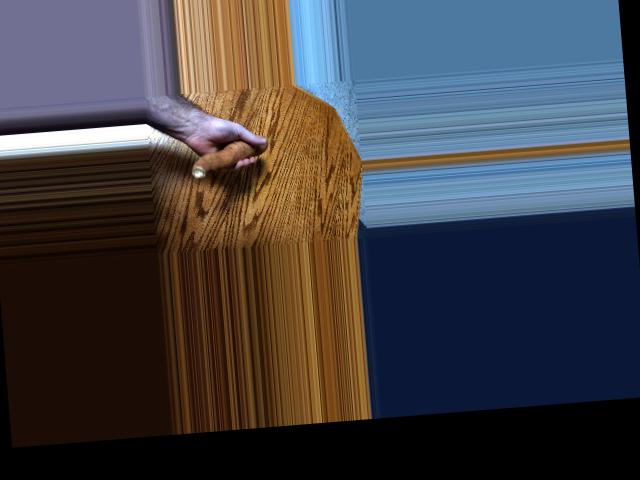sweet_potato: (184, 137, 273, 178)
